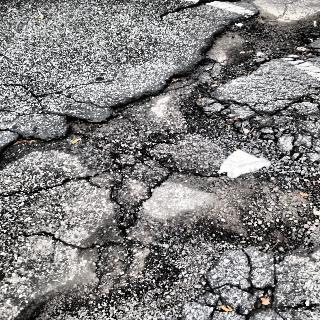pothole: (10, 22, 320, 319)
